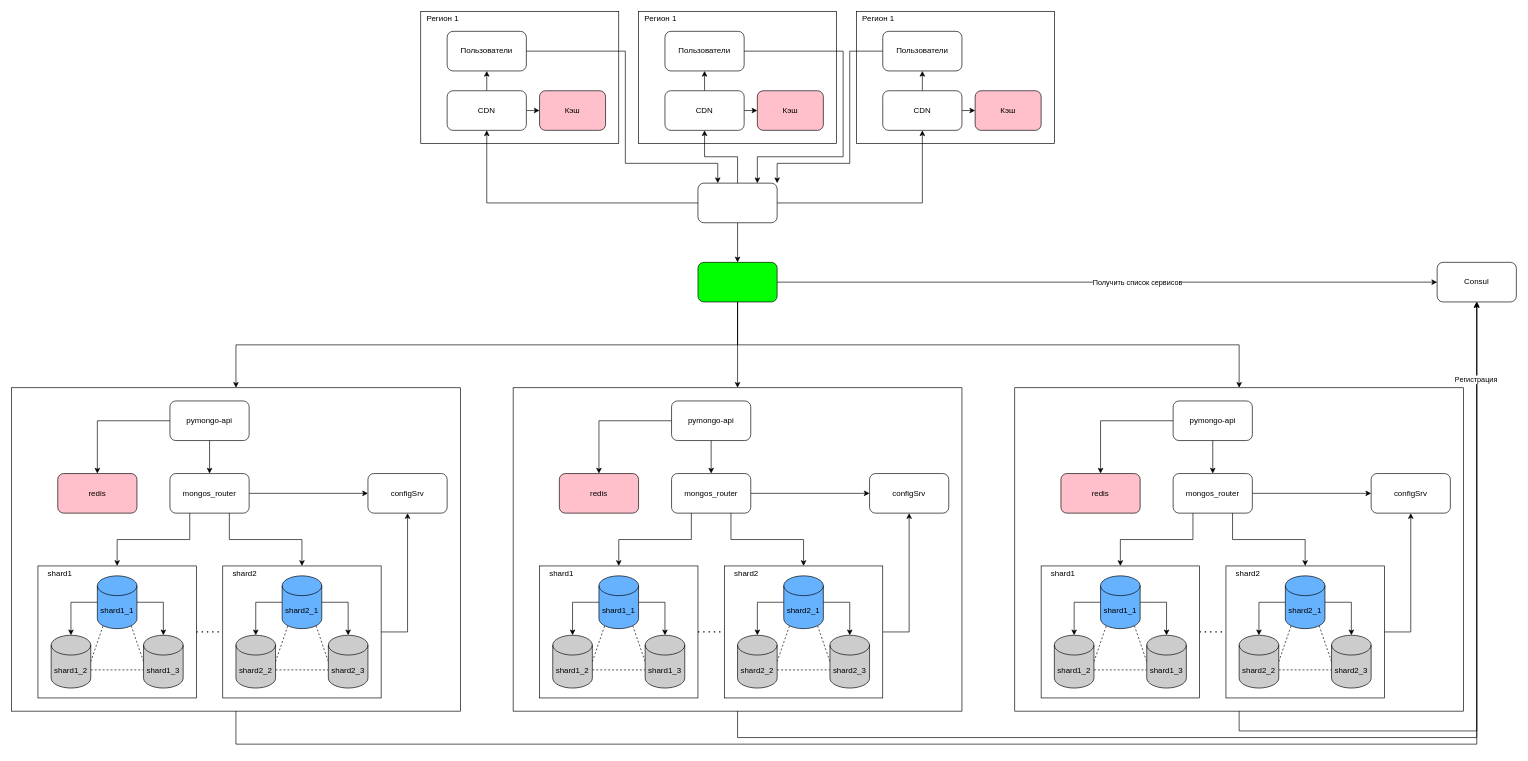
Image size: 1528x761. Some labels were removed from this diagram. The box of each missing label's shape, as (x1, y1, x2, y2) in pixels:
API Gateway: (697, 262, 777, 302)
Nginx: (697, 182, 777, 223)
